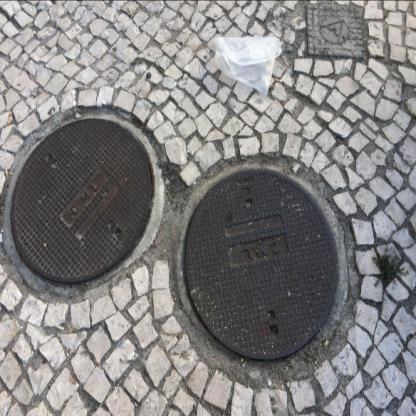Cigarette: (171, 81, 178, 90), (275, 78, 283, 82)
Plastic bag - wrapper: (214, 36, 283, 96)
